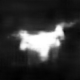plane: (10, 21, 79, 63)
